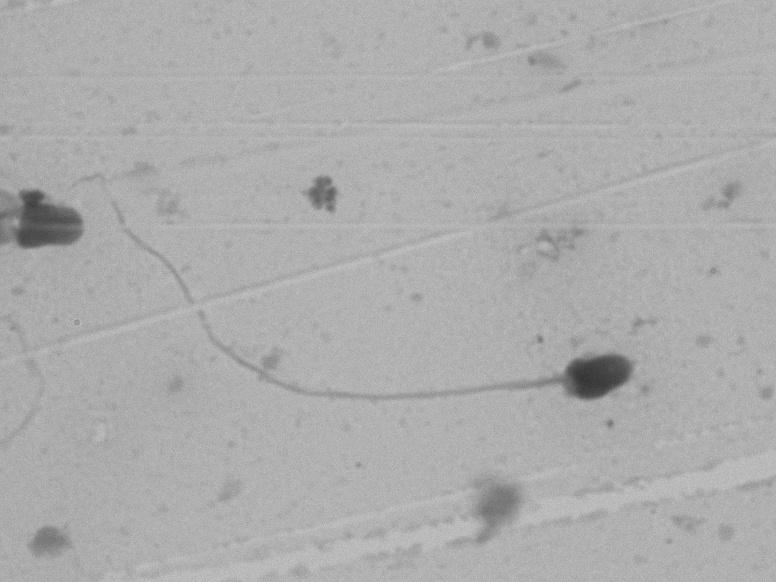Abnormal: (104, 181, 689, 445)
